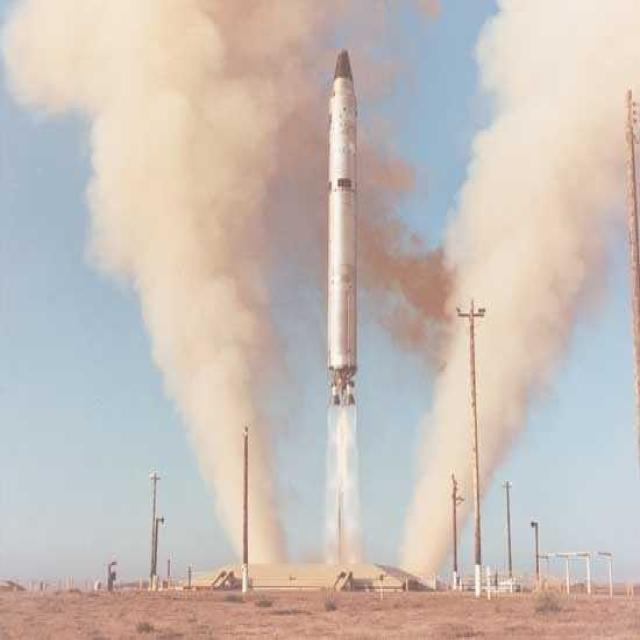missile: (324, 45, 362, 411)
